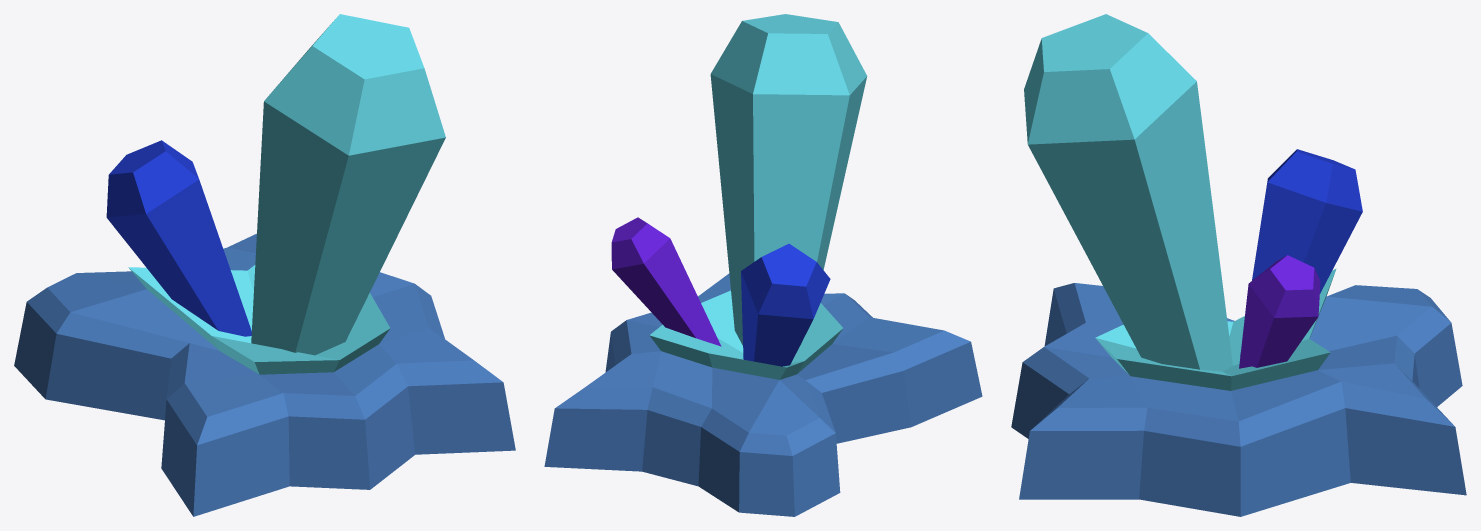
File: Mushroom_Mineral_01.fbx
3 renders of one model, left to right at view 1: azimuth 30°, elevation 25°; view 2: azimuth 150°, elevation 25°; view 3: azimuth 270°, elevation 25°, orthographic. The views are drawn at different scales.
Visible parts, largest first — view 1: Mineral_01; view 2: Mineral_01; view 3: Mineral_01.
Boxes of the visible parts, x1,y1,x2,y2 form: Mineral_01: [14, 14, 515, 516]; Mineral_01: [544, 14, 982, 516]; Mineral_01: [1011, 14, 1466, 516].
Size of the model in its own units: 173 by 199 by 199.
